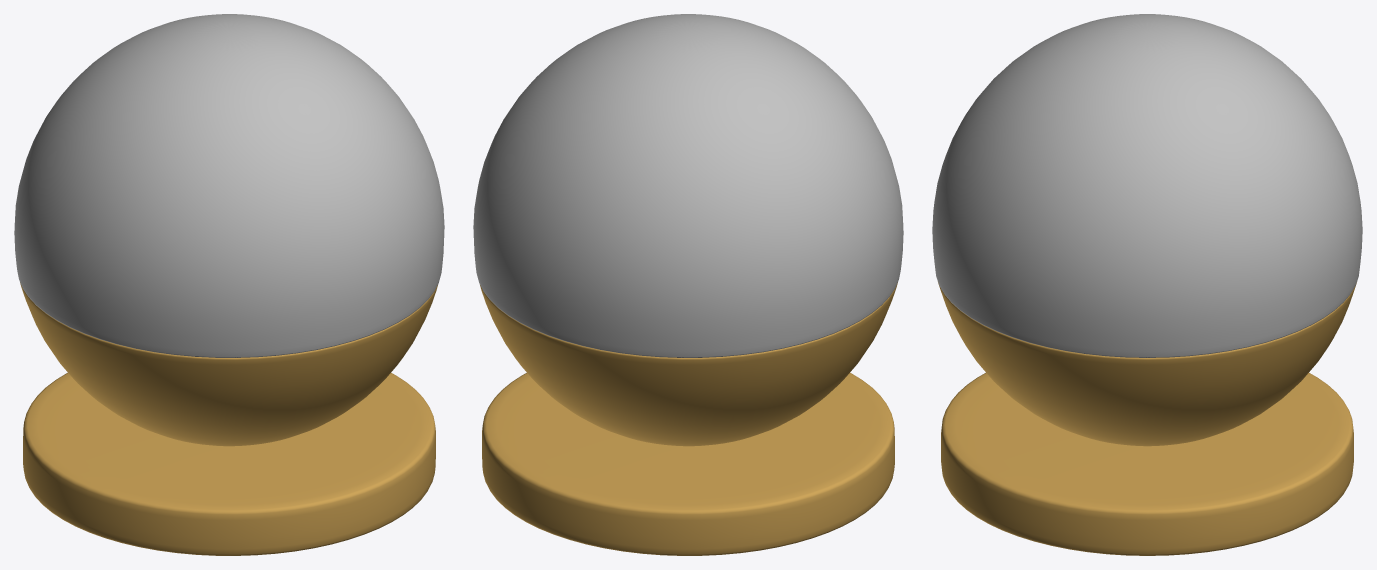
Rendered from lamp1.fbx.
3 renders of one model, left to right at view 1: azimuth 30°, elevation 25°; view 2: azimuth 150°, elevation 25°; view 3: azimuth 270°, elevation 25°, orthographic.
Visible parts, largest first — view 1: Dual wall light; view 2: Dual wall light; view 3: Dual wall light.
Part boxes in pixels (bbox=[...]): Dual wall light: bbox=[14, 14, 444, 555]; Dual wall light: bbox=[473, 14, 903, 555]; Dual wall light: bbox=[932, 14, 1362, 555].
Bounding box in the file's own units: 9.87 × 11.09 × 9.87.
